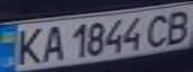1: (66, 20, 90, 58)
4: (121, 14, 151, 52), (103, 16, 130, 54)
8: (84, 19, 109, 56)
A: (36, 22, 69, 63)
B: (160, 7, 193, 45)
C: (142, 11, 175, 48)
K: (6, 25, 51, 66)
